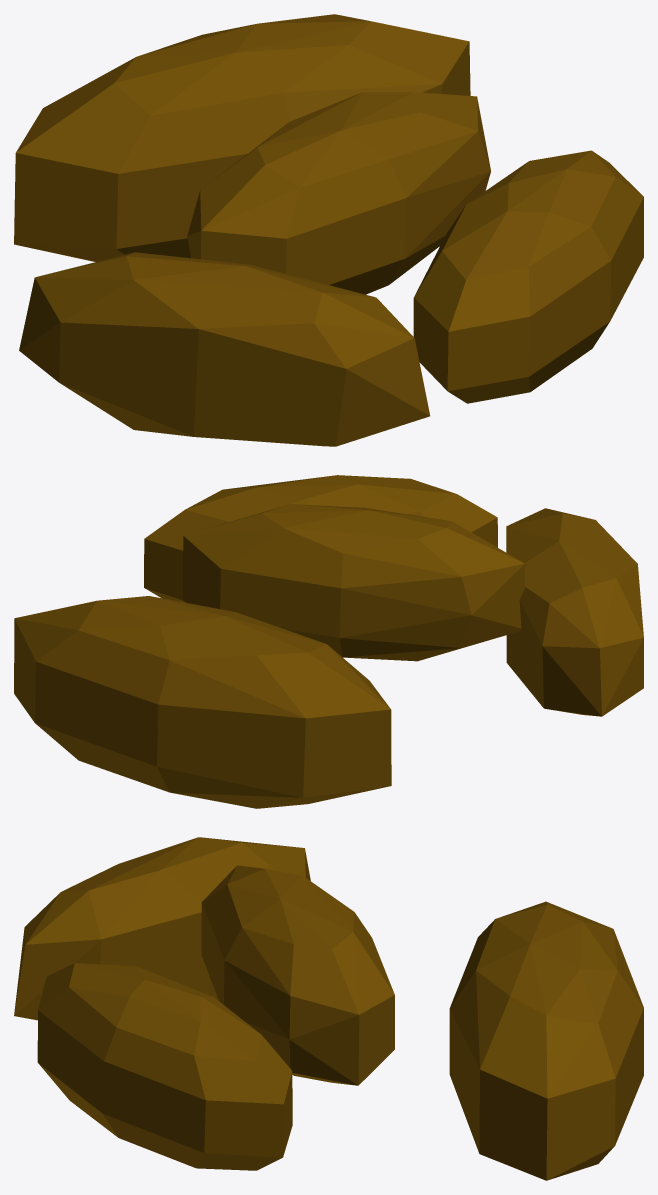
File: Pile of Potatoes.fbx
The picture shows the model from 3 angles, top to bottom: view 1: azimuth 30°, elevation 25°; view 2: azimuth 150°, elevation 25°; view 3: azimuth 270°, elevation 25°; orthographic projection. The views are drawn at different scales.
Parts seen in each view (by area): view 1: Pile of Potatoes; view 2: Pile of Potatoes; view 3: Pile of Potatoes.
Part boxes in pixels (bbox=[...]): Pile of Potatoes: bbox=[14, 14, 643, 446]; Pile of Potatoes: bbox=[14, 475, 643, 808]; Pile of Potatoes: bbox=[14, 837, 643, 1180].
Size of the model in its own units: 19.71 by 7.61 by 20.61.
